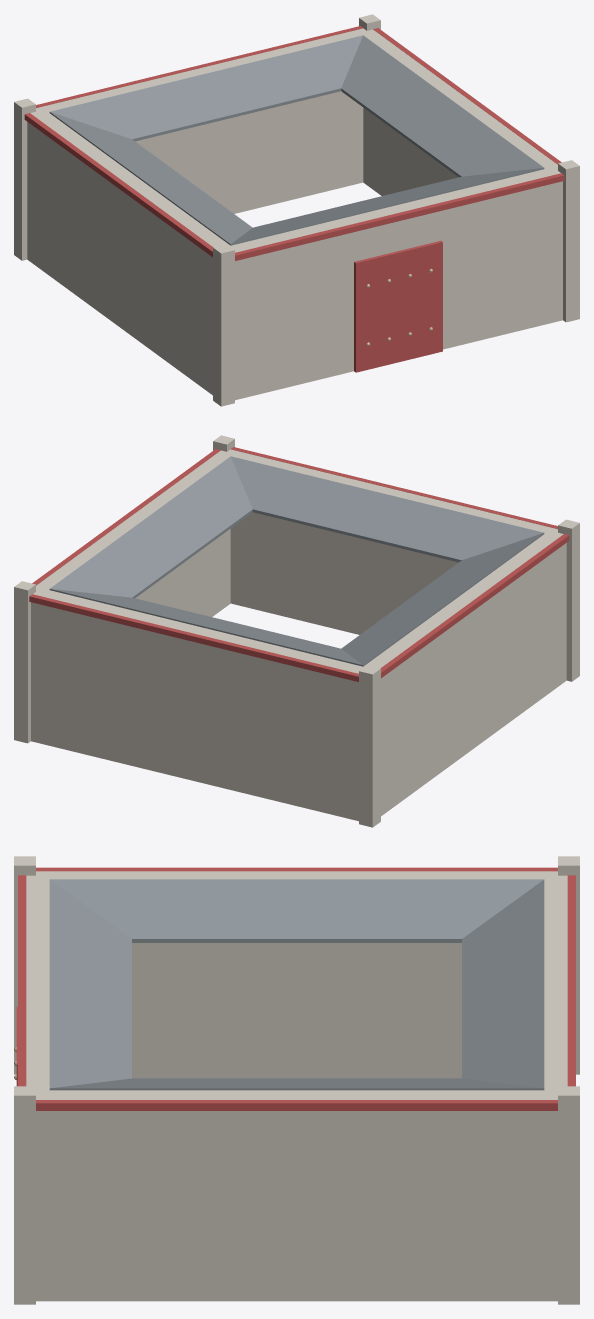
The model's file is Caravansary_EastAsia.fbx.
The picture shows the model from 3 angles, top to bottom: view 1: azimuth 30°, elevation 25°; view 2: azimuth 150°, elevation 25°; view 3: azimuth 270°, elevation 25°; orthographic projection. The views are drawn at different scales.
Parts seen in each view (by area): view 1: Caravansary_EastAsia_Mesh; view 2: Caravansary_EastAsia_Mesh; view 3: Caravansary_EastAsia_Mesh.
Boxes of the visible parts, x1,y1,x2,y2 form: Caravansary_EastAsia_Mesh: (14,14,579,406); Caravansary_EastAsia_Mesh: (14,435,579,827); Caravansary_EastAsia_Mesh: (14,856,579,1304).
Bounding box in the file's own units: 10.3 × 4.2 × 10.3.
